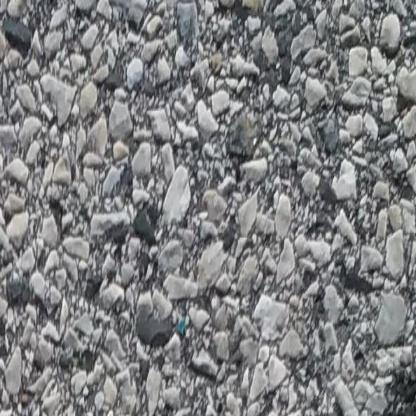Cracks: (378, 338, 416, 416)
